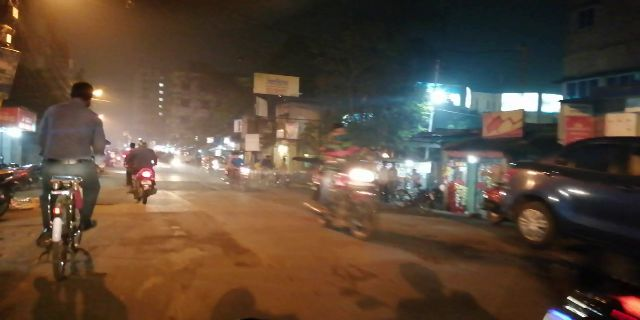Cycle: (29, 78, 105, 276)
Motorbike: (298, 120, 394, 244), (118, 134, 166, 207)
